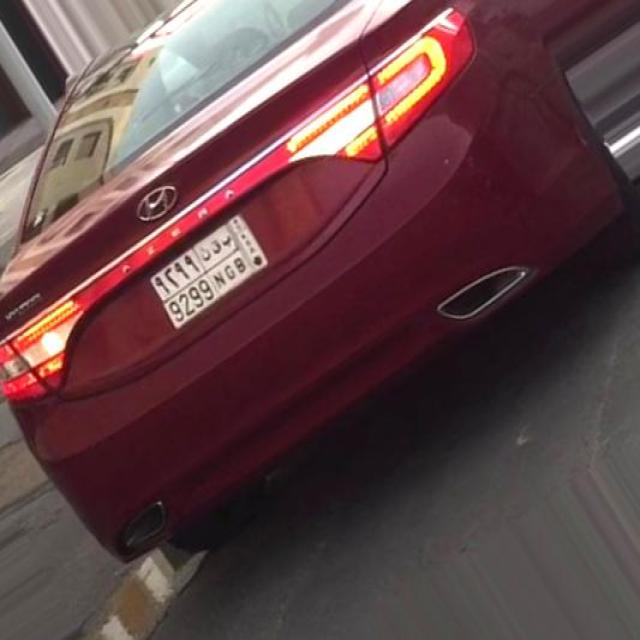Car-plate: (142, 197, 298, 343)
